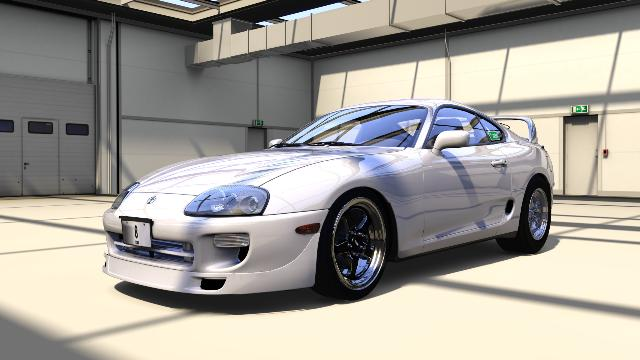License Plate: (121, 222, 152, 246)
